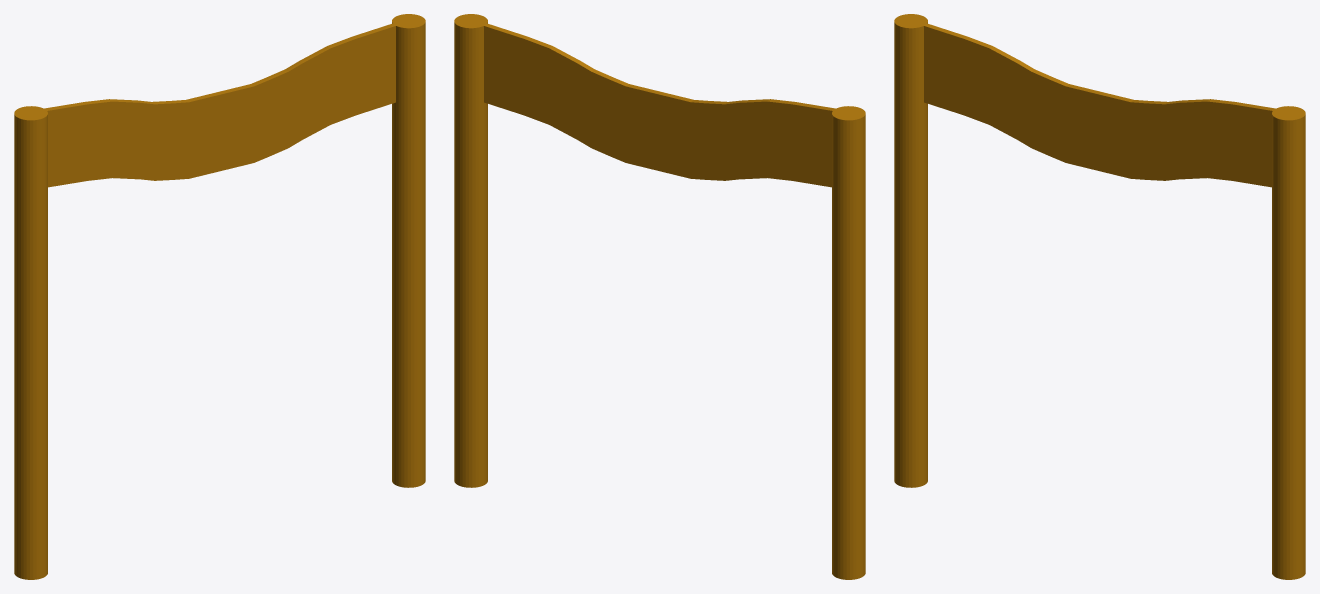
The model's file is gate.glb.
3 views of the same model, side by side, from view 1: azimuth 30°, elevation 25°; view 2: azimuth 150°, elevation 25°; view 3: azimuth 330°, elevation 25° (orthographic).
Visible parts, largest first — view 1: gate; view 2: gate; view 3: gate.
Boxes of the visible parts, <box> form: gate: <box>14,14,425,579</box>; gate: <box>454,14,865,579</box>; gate: <box>894,14,1305,579</box>.
Size of the model in its own units: 2.78 by 3 by 0.2.
